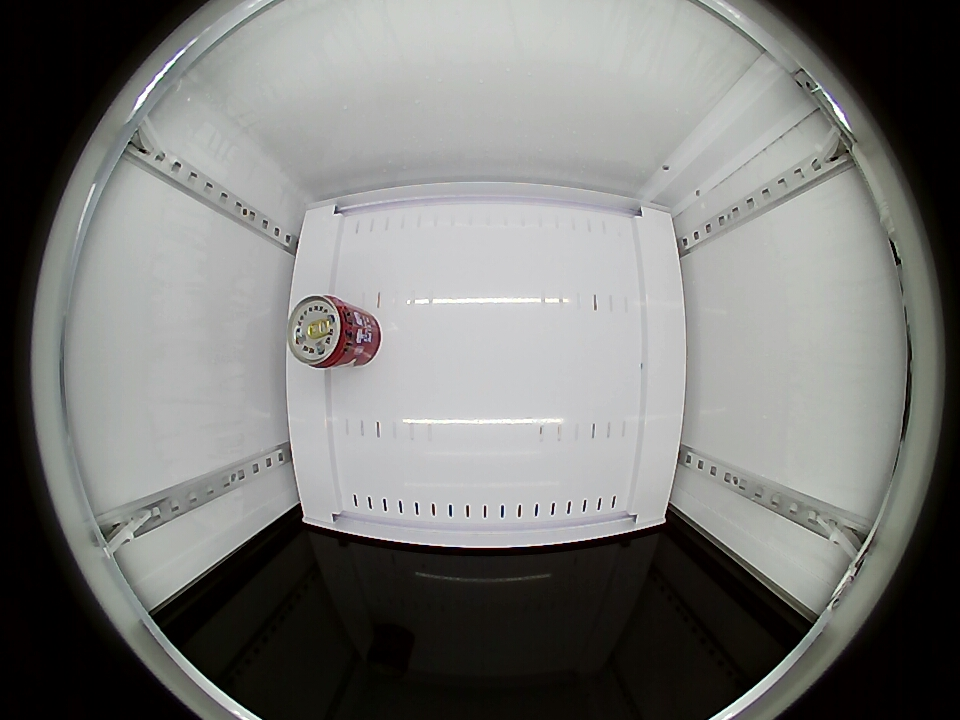wangzainiunai: (289, 294, 362, 369)
